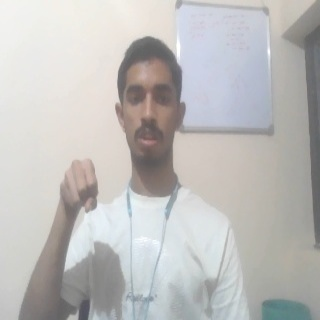Face: (114, 36, 188, 165)
Yes: (58, 159, 103, 213)
